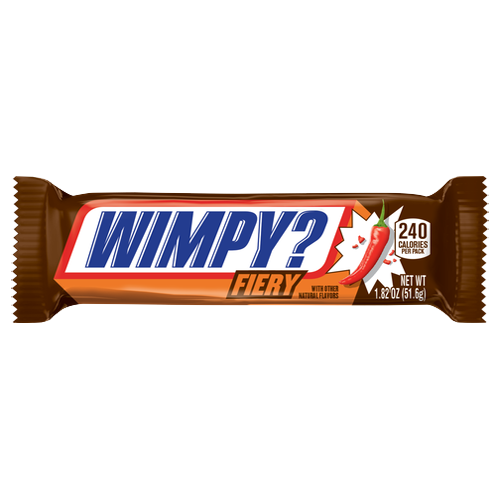snickers: (82, 206, 330, 266)
